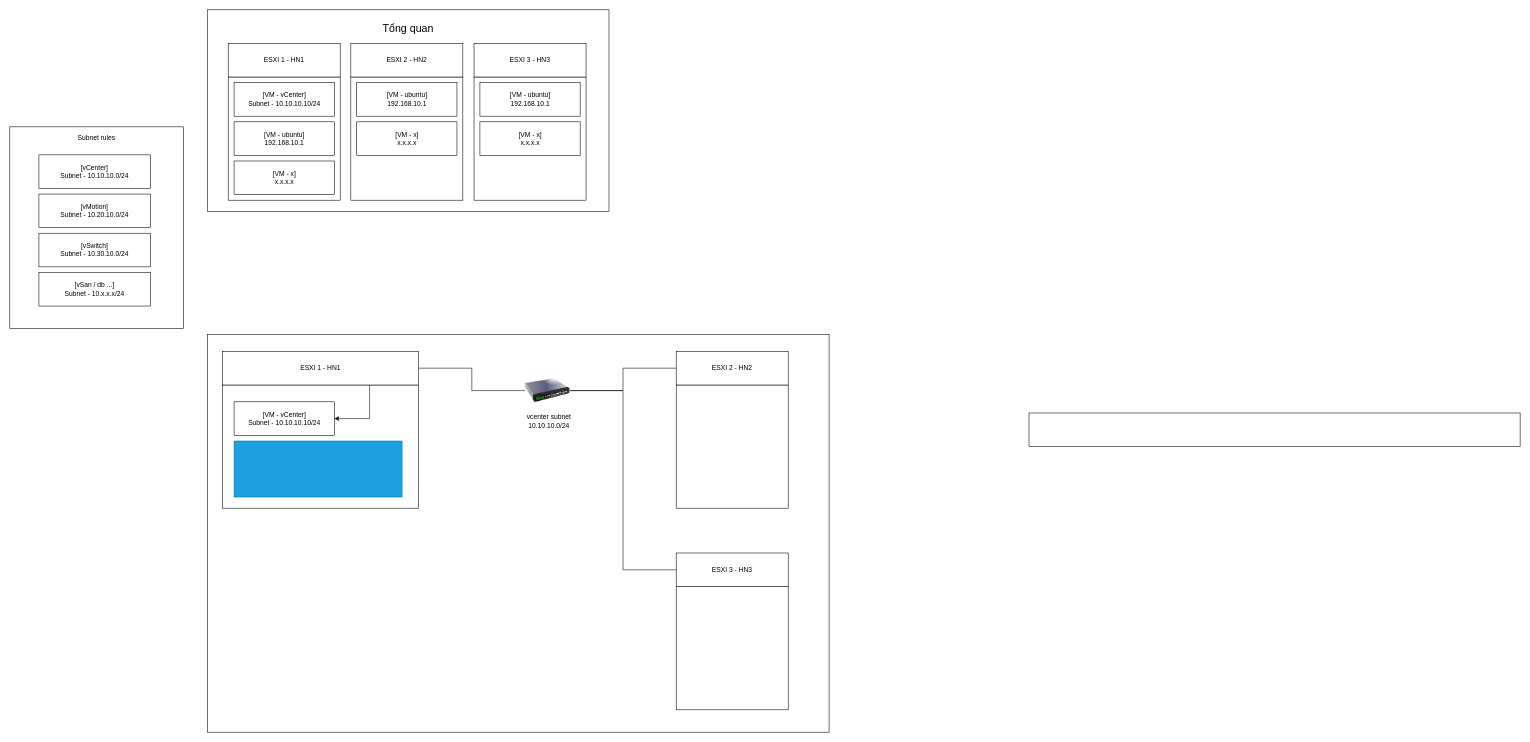
The diagram is 1530 pixels wide and 742 high, and some of its shapes have lost their labels. The centre of each missing label's shape, as x and y in pixels:
vCenter - Network: pixel 1274 429
vSwitch : Vcenter Nic 0 Khi triển khai vcenter chọn mạng Vcenter: pixel 318 468
